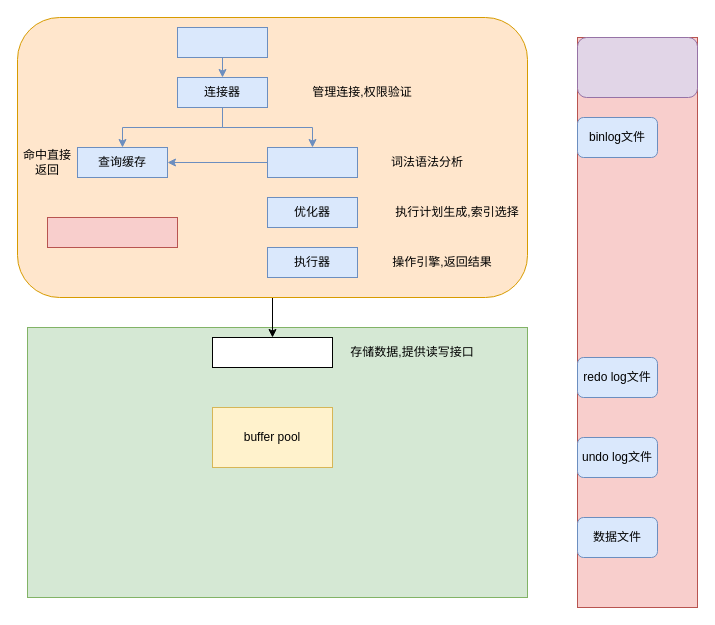
Image size: 715x625. Some labels were removed from this diagram. The centre of each missing label's shape, as x and y in pixels:
server层: the point at 112,232
分析器: the point at 312,162
存储引擎innoDB: the point at 272,352
客户端: the point at 222,42
磁盘: the point at 637,67
